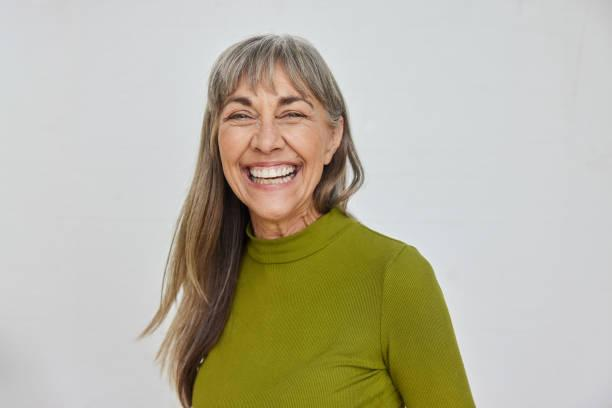no_goggle: (211, 94, 332, 137)
no_helmet: (201, 33, 354, 106)
no_vest: (174, 206, 476, 404)
